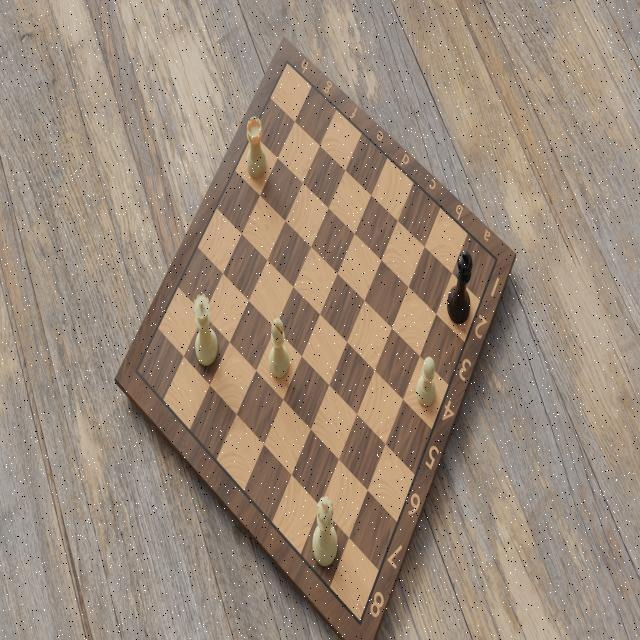black-king: (445, 246, 475, 328)
white-bishop: (265, 316, 291, 384)
white-king: (310, 489, 340, 569)
white-pawn: (414, 356, 437, 412)
white-queen: (193, 289, 221, 375)
white-rook: (243, 114, 268, 184)
